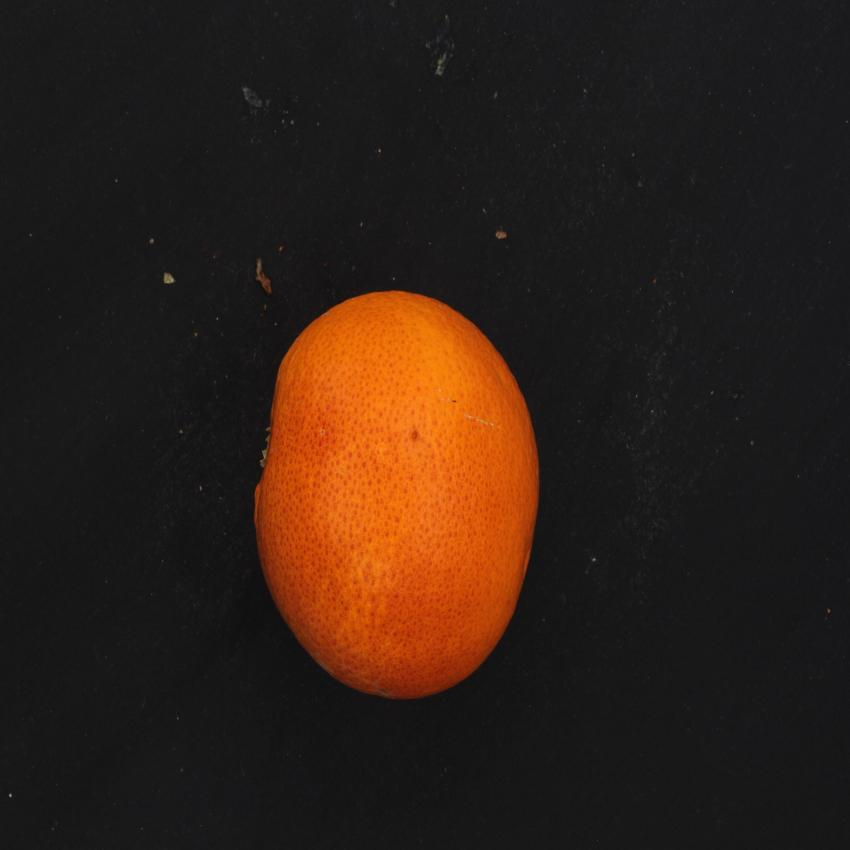Mal estado: (249, 276, 559, 708)
